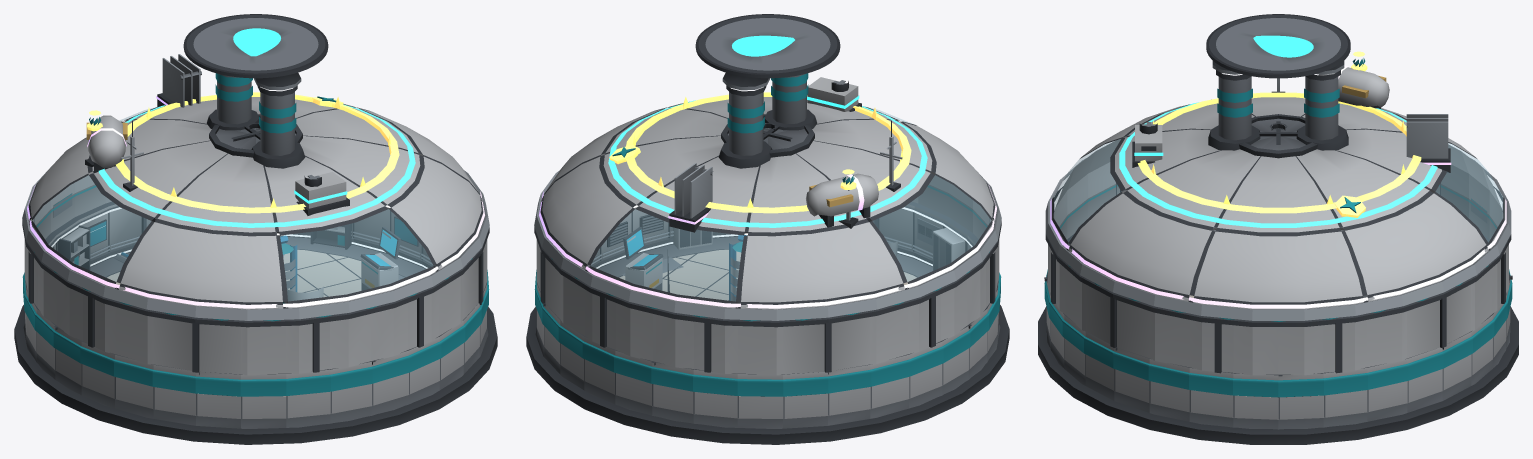
File: oxygen_plant_m_far.glb
3 views of the same model, side by side, from view 1: azimuth 30°, elevation 25°; view 2: azimuth 150°, elevation 25°; view 3: azimuth 270°, elevation 25° (orthographic).
Visible parts, largest first — view 1: Roof, Base, L2, L4, L3, L5, Interior; view 2: Roof, Base, L4, L2, L3, L5, Interior; view 3: Roof, Base, L2, L4, L5, L3.
Boxes of the visible parts, x1,y1,x2,y2 form: Roof: [22, 14, 489, 375]; Base: [14, 202, 497, 444]; L2: [22, 120, 489, 320]; L4: [27, 54, 484, 308]; L3: [98, 104, 415, 227]; L5: [85, 92, 399, 213]; Interior: [114, 227, 404, 303]; Roof: [534, 14, 1001, 375]; Base: [526, 202, 1009, 444]; L4: [539, 163, 996, 308]; L2: [534, 120, 1001, 320]; L3: [608, 77, 927, 227]; L5: [609, 92, 911, 228]; Interior: [622, 227, 746, 303]; Roof: [1045, 14, 1511, 375]; Base: [1038, 227, 1518, 444]; L2: [1045, 78, 1511, 320]; L4: [1050, 65, 1506, 308]; L5: [1137, 51, 1421, 217]; L3: [1119, 102, 1437, 227].
Bounding box in the file's own units: 10.53 × 7.23 × 10.53.
